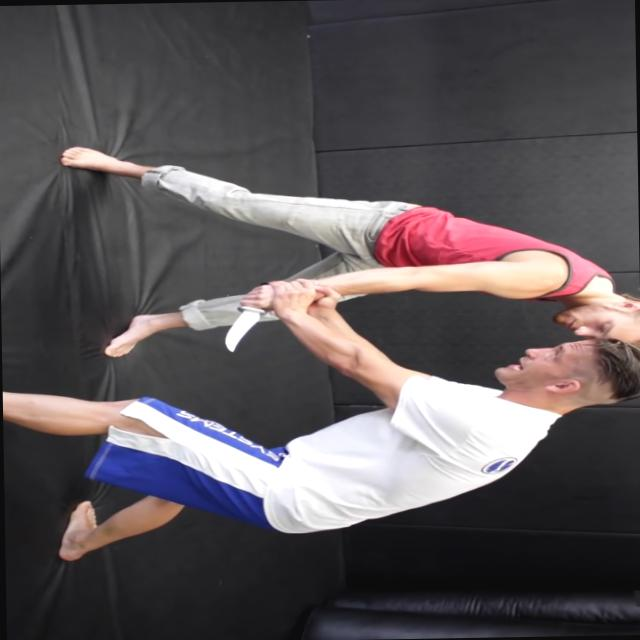knife: (215, 279, 276, 354)
